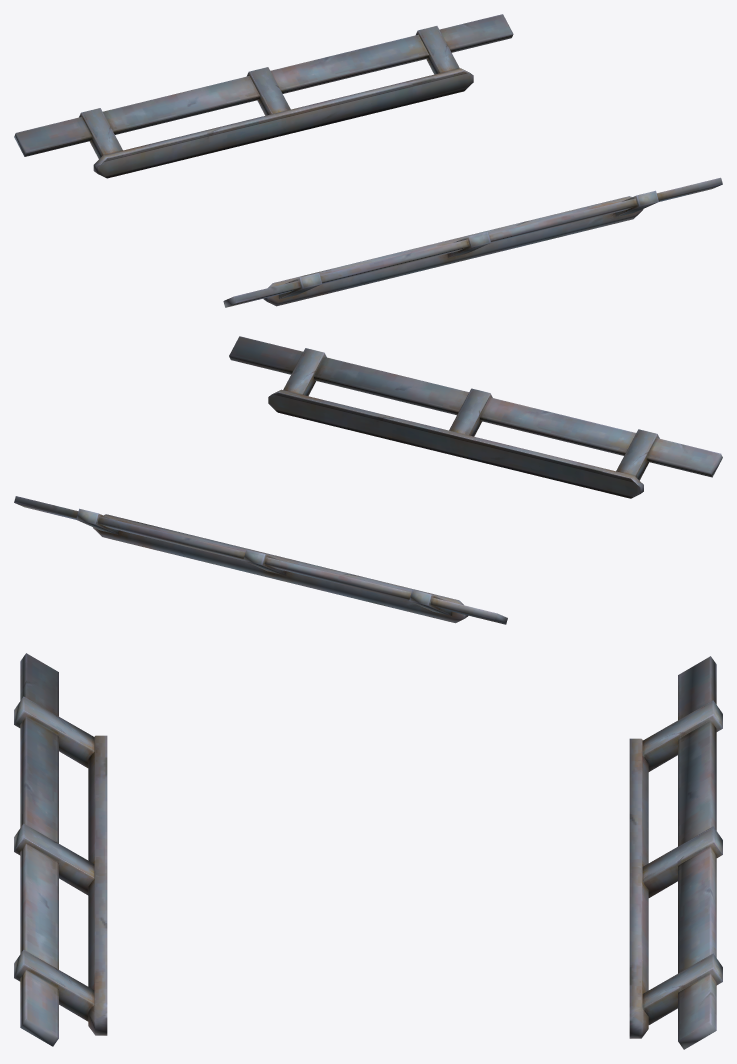
The model's file is all_item_imp_small_scaffold_rail.glb.
3 views of the same model, one above another, from view 1: azimuth 30°, elevation 25°; view 2: azimuth 150°, elevation 25°; view 3: azimuth 270°, elevation 25° (orthographic). The views are drawn at different scales.
Parts seen in each view (by area): view 1: all_item_imp_small_scaffold_rail; view 2: all_item_imp_small_scaffold_rail; view 3: all_item_imp_small_scaffold_rail.
Part boxes in pixels (x1,y1,x2,y2): all_item_imp_small_scaffold_rail: (14,14,722,307); all_item_imp_small_scaffold_rail: (14,336,722,624); all_item_imp_small_scaffold_rail: (14,653,722,1049).
Bounding box in the file's own units: 0.5041 × 0.0449 × 0.4089.
Materials: 1 (1 with a texture image).
